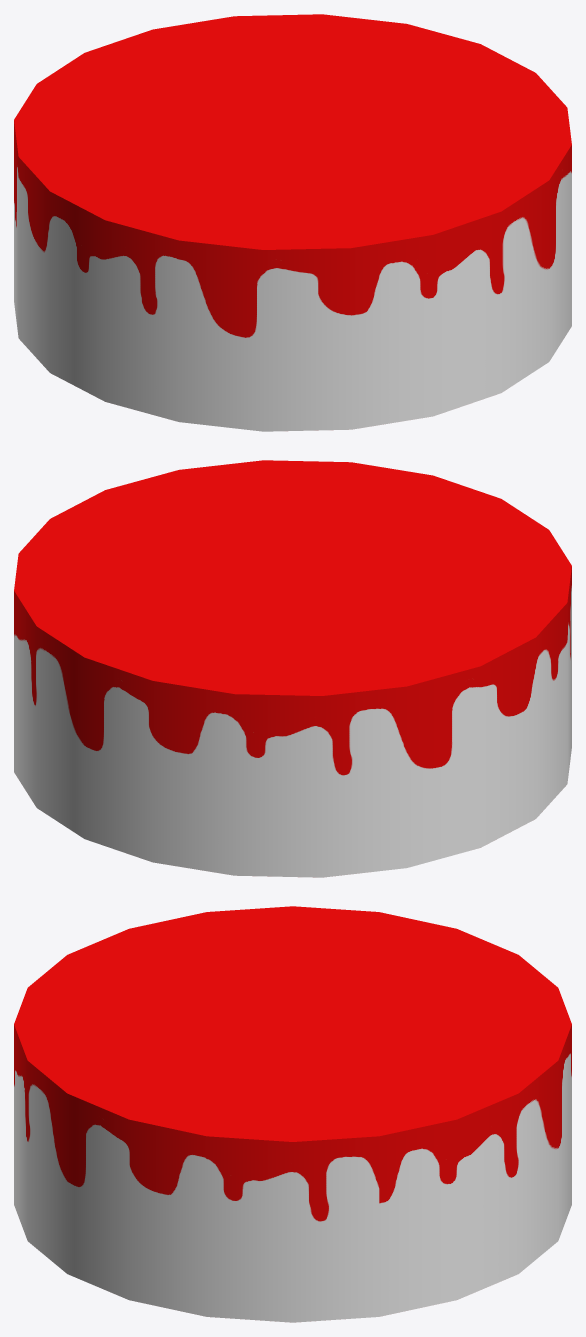
Rendered from RedMedium.fbx.
3 renders of one model, top to bottom at view 1: azimuth 30°, elevation 25°; view 2: azimuth 150°, elevation 25°; view 3: azimuth 270°, elevation 25°, orthographic.
Visible parts, largest first — view 1: RedMedium; view 2: RedMedium; view 3: RedMedium.
Part boxes in pixels (x1,y1,x2,y2): RedMedium: [14, 14, 571, 431]; RedMedium: [14, 460, 571, 877]; RedMedium: [14, 906, 571, 1322].
Size of the model in its own units: 700 by 250 by 700.
